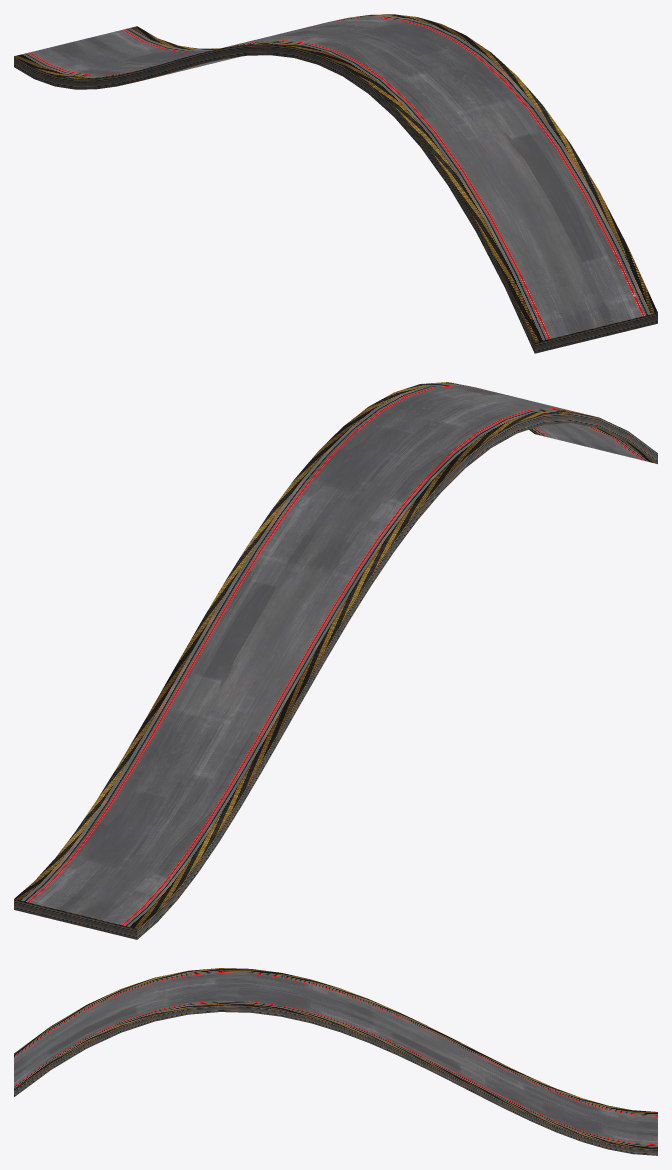
File: Ramp_c2.FBX
3 renders of one model, top to bottom at view 1: azimuth 30°, elevation 25°; view 2: azimuth 150°, elevation 25°; view 3: azimuth 270°, elevation 25°, orthographic. The views are drawn at different scales.
Visible parts, largest first — view 1: Box018; view 2: Box018; view 3: Box018.
Boxes of the visible parts, bbox=[...] form: Box018: bbox=[14, 14, 657, 353]; Box018: bbox=[14, 382, 657, 939]; Box018: bbox=[14, 968, 657, 1155].
Bounding box in the file's own units: 955 × 1805 × 6991.
Materials: 1 (1 with a texture image).
